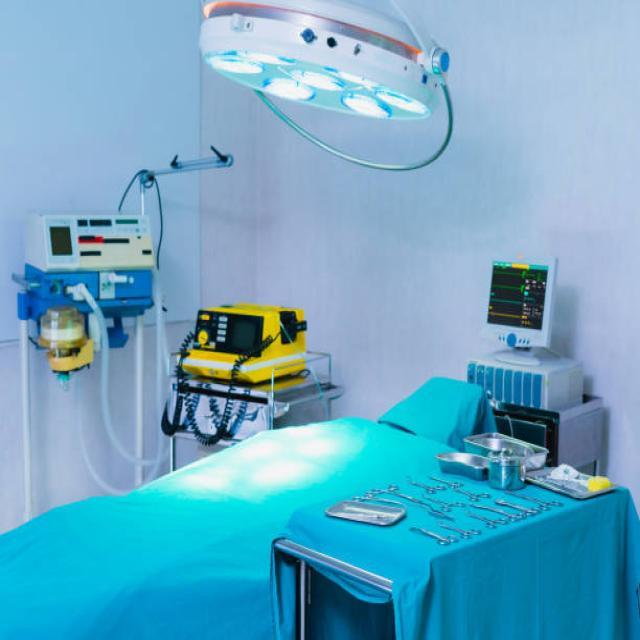Monitor: (476, 250, 582, 394)
bed: (0, 380, 505, 640)
tools_table: (270, 432, 640, 640)
